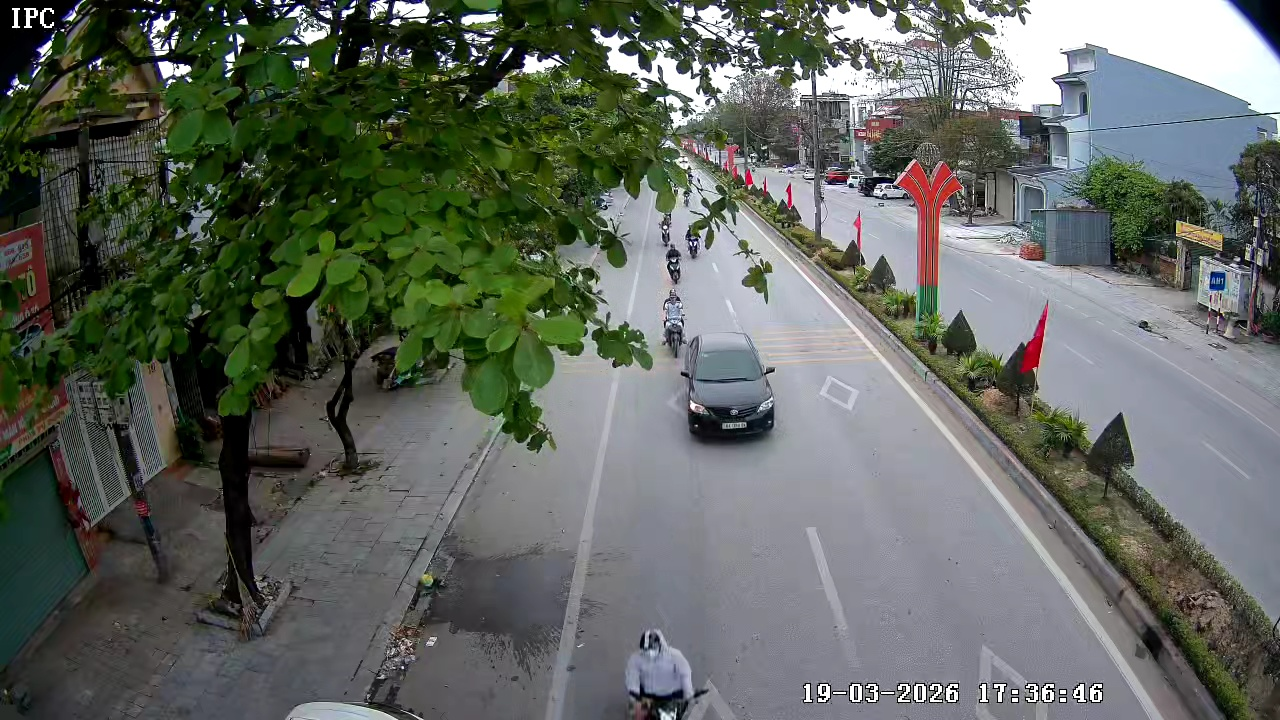bus: (1052, 42, 1099, 85)
car: (681, 329, 778, 440)
motorbike: (623, 626, 712, 719), (658, 285, 688, 358), (663, 239, 685, 284), (685, 217, 705, 260), (657, 210, 675, 246)
